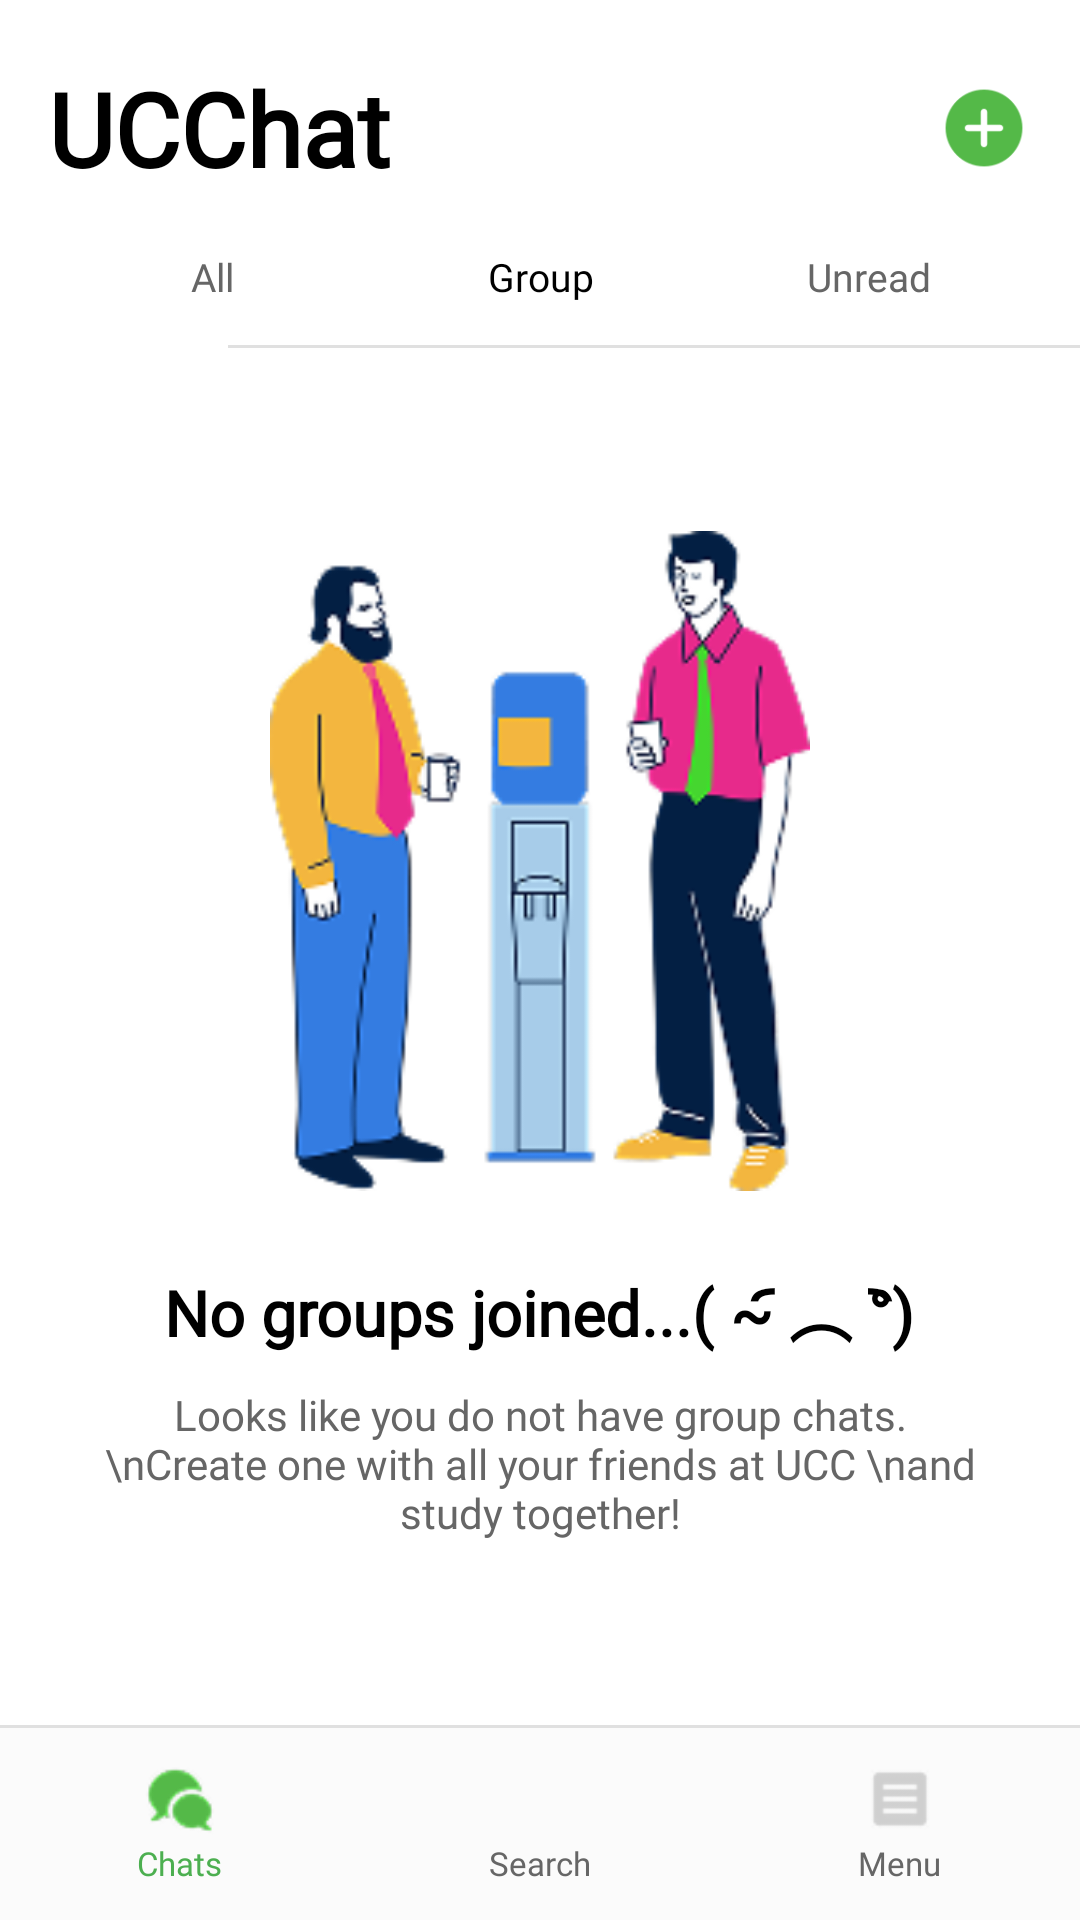

Icon bounding boxes for this 1080×1920 phone screenshot, format {"x1": x1, "y1": y1, "x2": x2, "y2": y2}:
Add Button: {"x1": 945, "y1": 89, "x2": 1023, "y2": 167}
